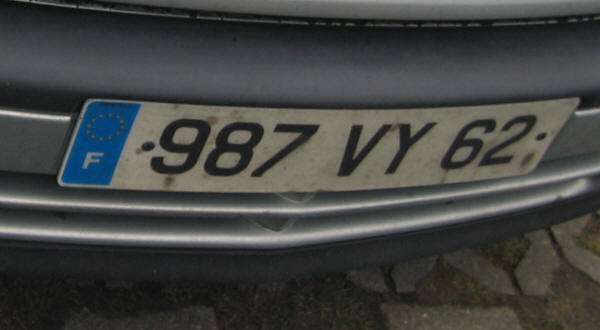license_plate: (55, 97, 581, 191)
